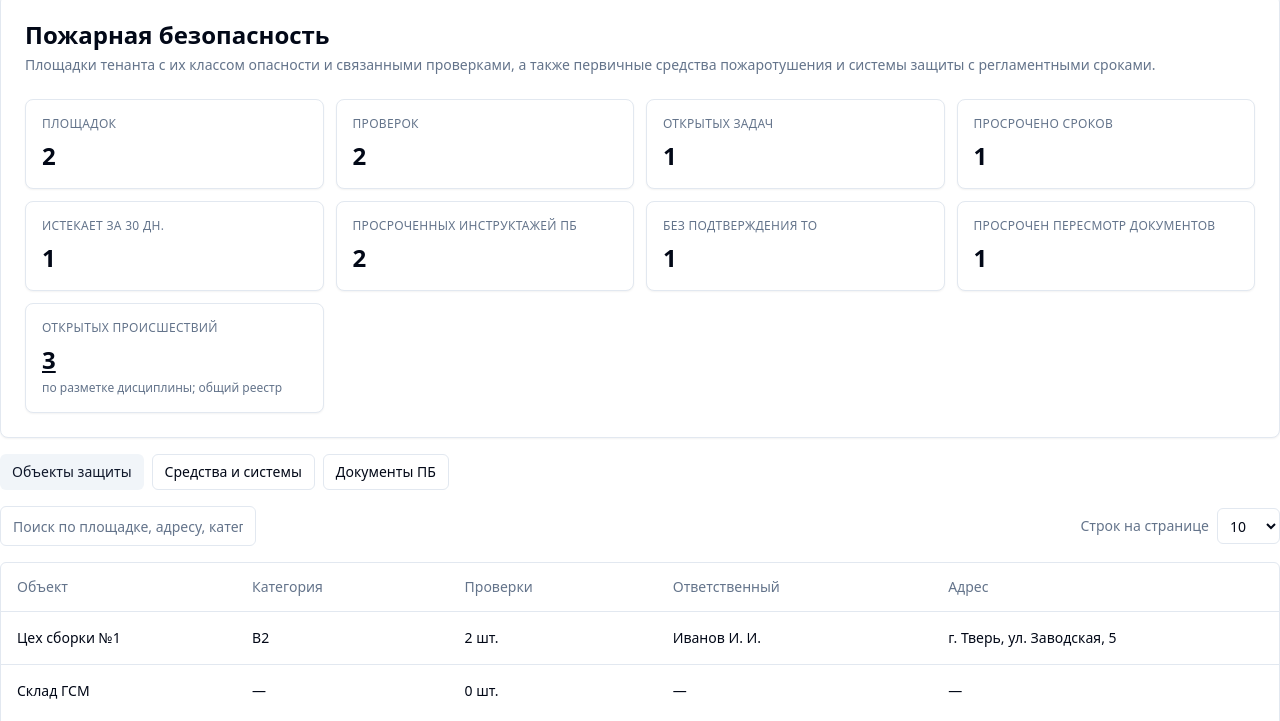
Scenario: FireSafetyPage › документ ПБ заводится с экрана (срез-103)
Click the button "Документы ПБ" at coordinates (386, 472), box [323, 454, 449, 490]
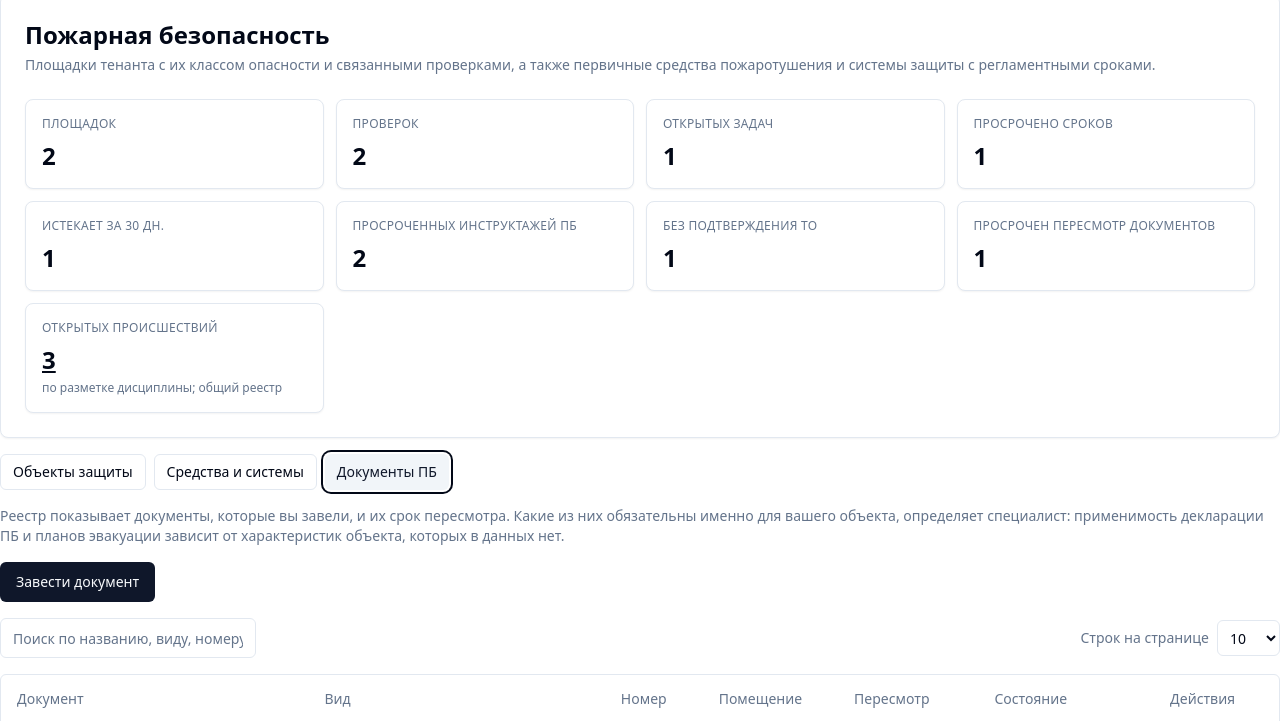
Click the button "Завести документ" at coordinates (78, 582), box [0, 562, 155, 602]
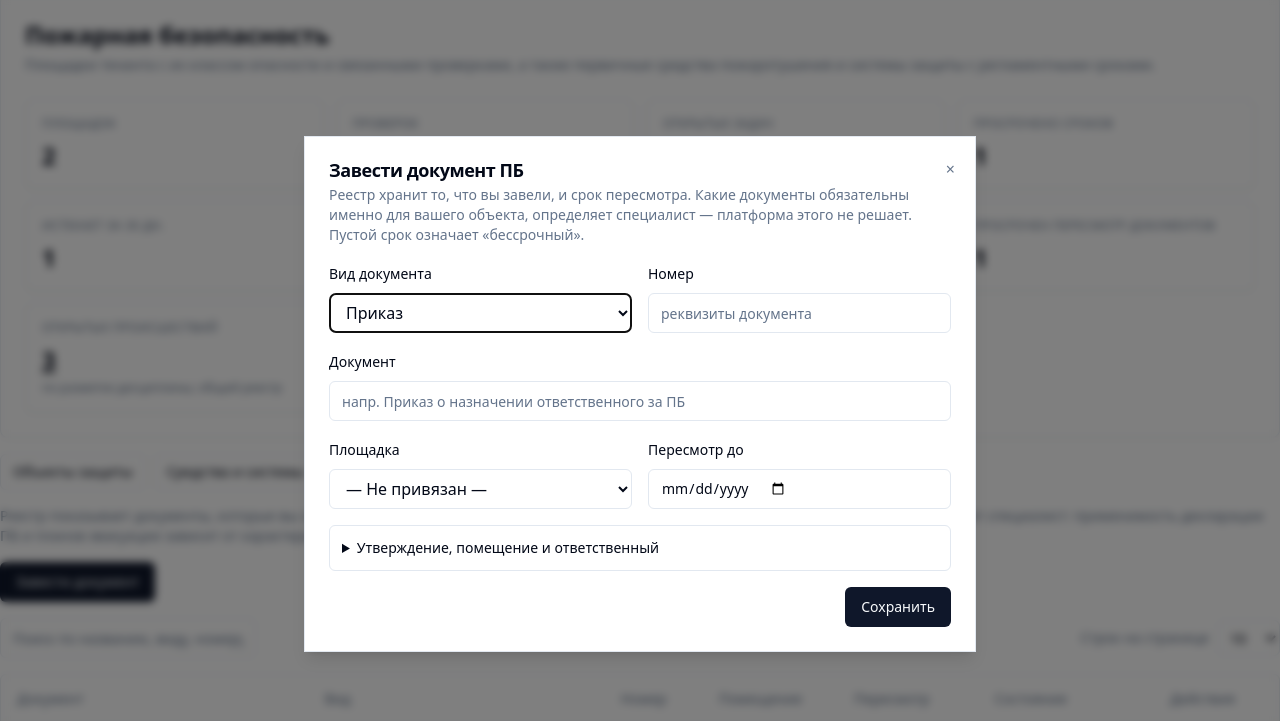
Type "Приказ о противопожарном режиме" into the field labelled "Документ" at coordinates (640, 401), box [329, 381, 951, 421]
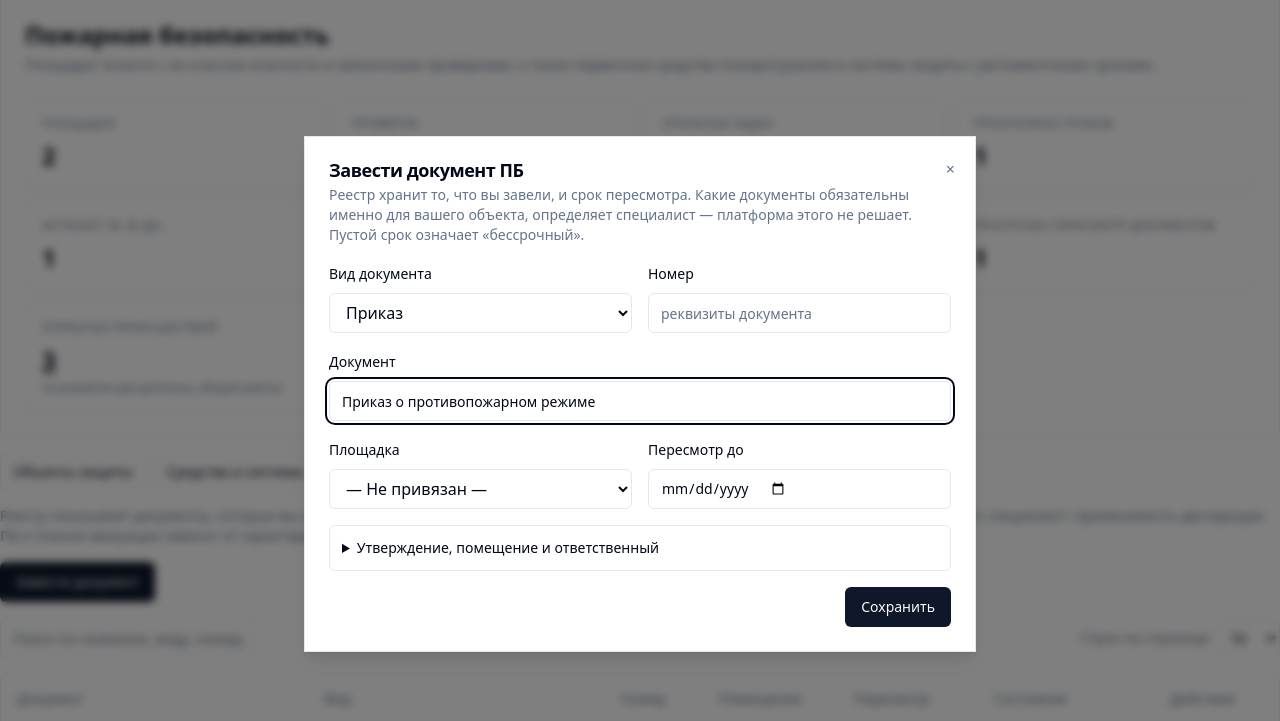
Type "15-ПБ" into the field labelled "Номер" at coordinates (800, 313), box [648, 293, 951, 333]
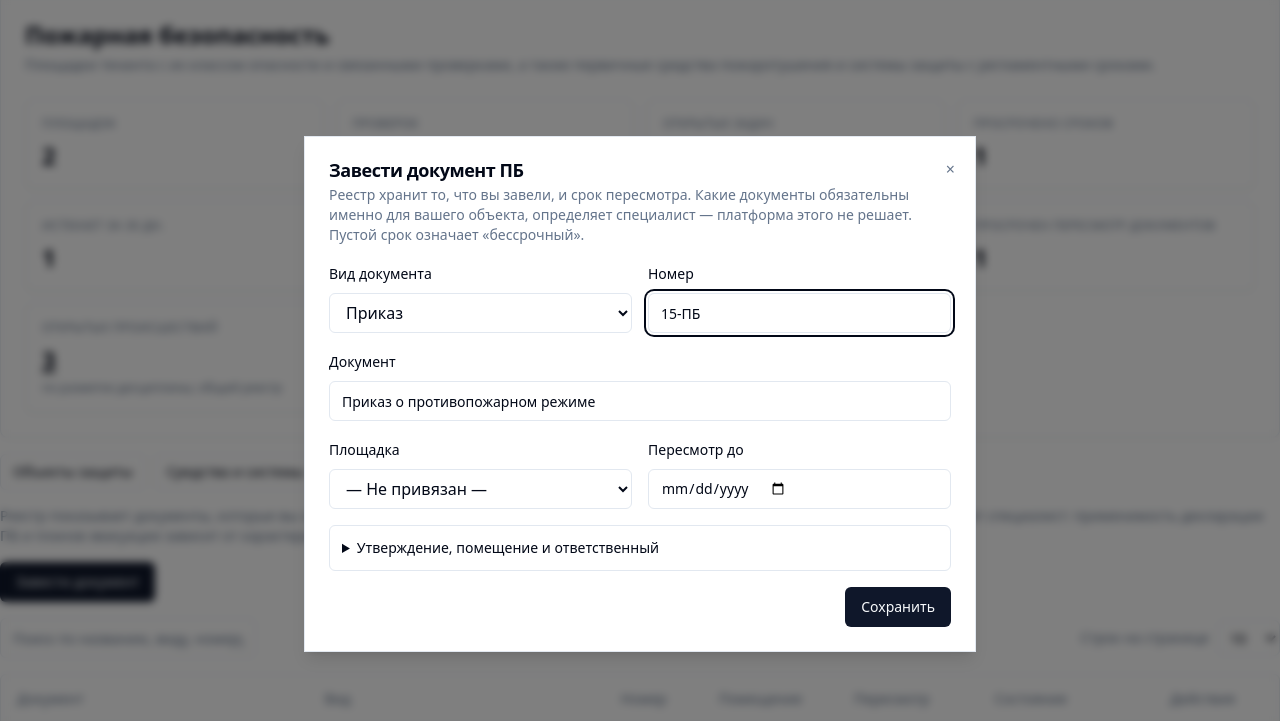
Click the button "Сохранить" at coordinates (898, 607), box [845, 587, 951, 627]
(page scrolled)
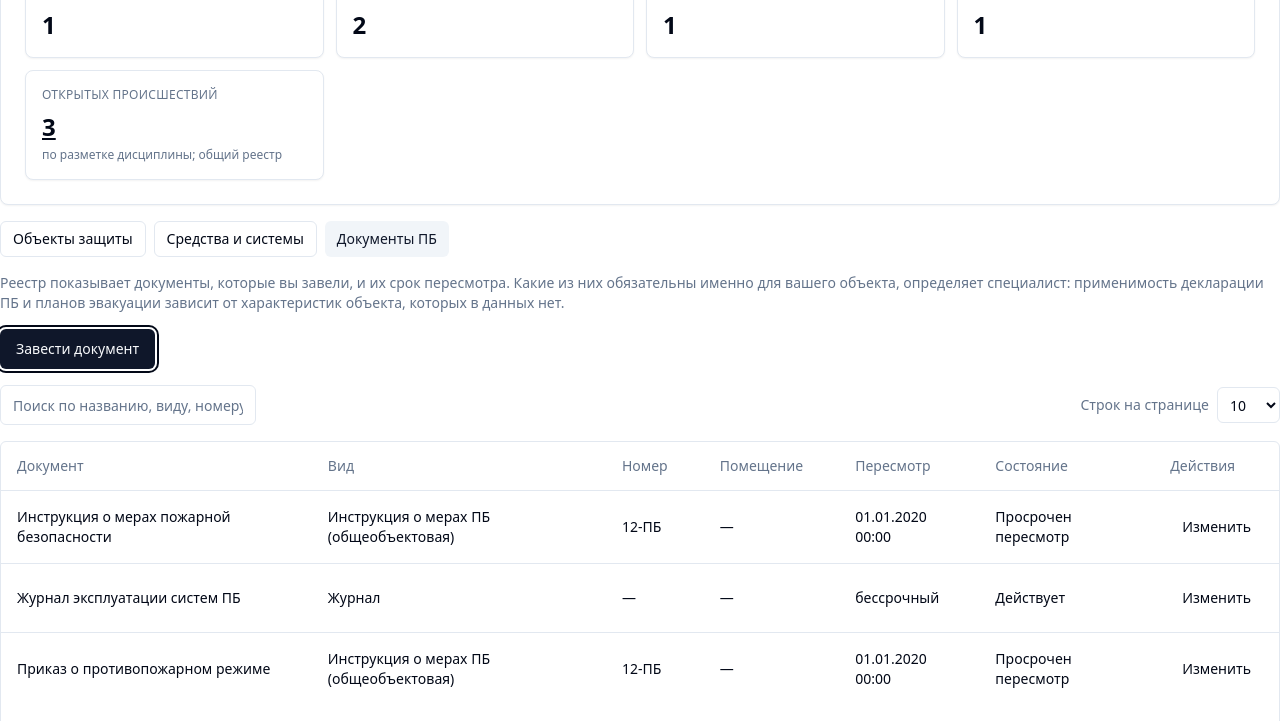
Check: the text "Приказ о противопожарном режиме" is shown, box [1, 632, 312, 704]
